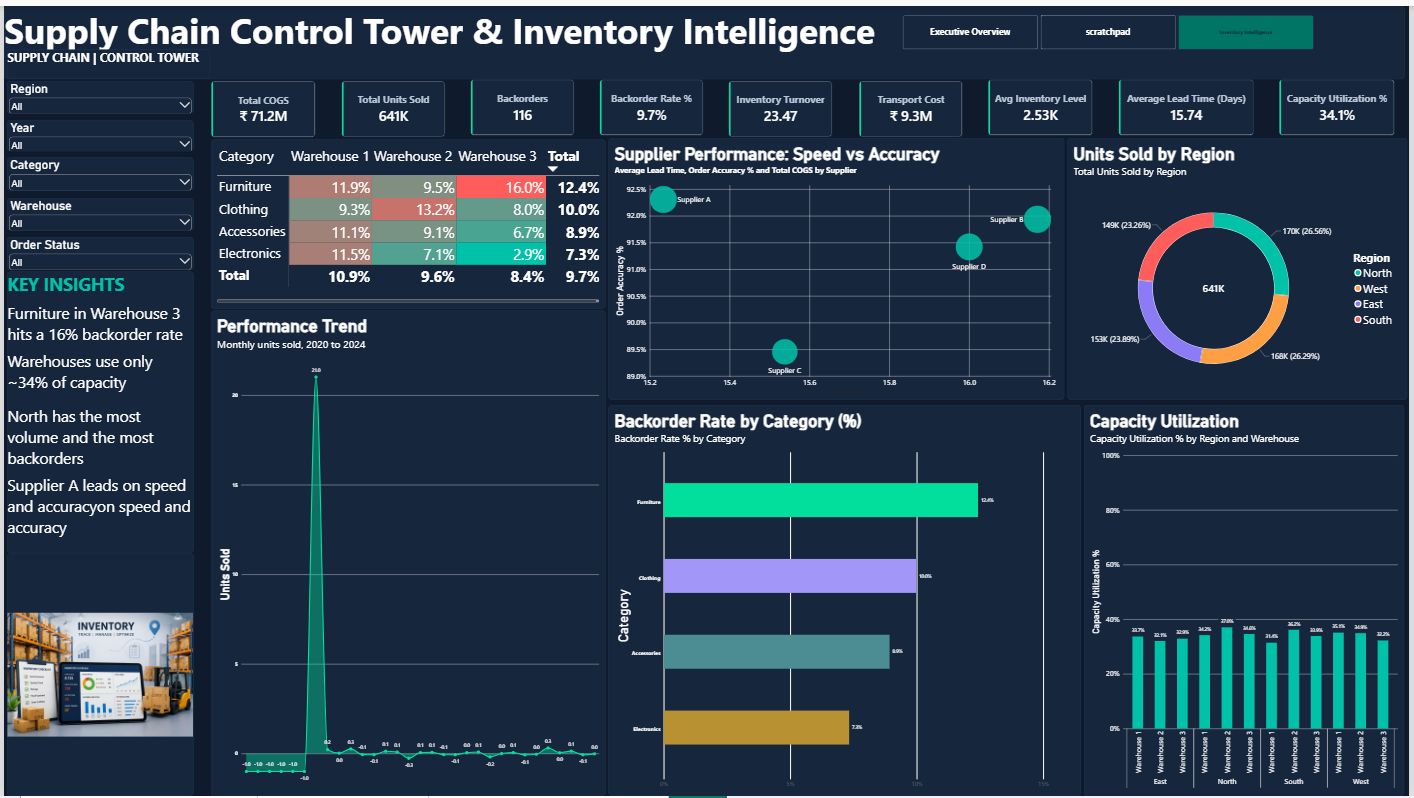

This screenshot's page, from the dashboard's own definition file:
{"tool":"powerbi","page":{"name":"Inventory Intelligence","canvas":[3840,2160],"ordinal":2},"visuals":[{"type":"textbox","box":[0,0,3830,200],"z":0},{"type":"slicer","fields":{"Values":["DateTable.Year"]},"box":[10,311.7,510,85],"z":1000},{"type":"slicer","fields":{"Values":["Inventory_SupplyChain_Dataset.Category"]},"box":[10,415,510,90],"z":2000},{"type":"slicer","fields":{"Values":["Inventory_SupplyChain_Dataset.Order Status"]},"box":[10,630,510,90],"z":3000},{"type":"cardVisual","fields":{"Data":["Inventory_SupplyChain_Dataset.Average Lead Time"]},"box":[3046.5,202.2,370,153.3],"z":4000},{"type":"cardVisual","fields":{"Data":["Inventory_SupplyChain_Dataset.Backordered Records"]},"box":[1275.5,202.5,283.3,153.3],"z":5000},{"type":"cardVisual","fields":{"Data":["Inventory_SupplyChain_Dataset.Total COGS"]},"box":[566.2,203.8,285.5,154.1],"z":6000},{"type":"cardVisual","fields":{"Data":["Inventory_SupplyChain_Dataset.Total Transportation Cost"]},"box":[2336.1,204.4,283.3,153.3],"z":7000},{"type":"cardVisual","fields":{"Data":["Inventory_SupplyChain_Dataset.Total Units Sold"]},"box":[921.9,203.8,283.3,153.3],"z":8000},{"type":"slicer","fields":{"Values":["Inventory_SupplyChain_Dataset.Region"]},"box":[10,205,510,88.3],"z":9000},{"type":"slicer","fields":{"Values":["Inventory_SupplyChain_Dataset.Warehouse"]},"box":[10,523.3,510,88.3],"z":10000},{"type":"cardVisual","fields":{"Data":["Inventory_SupplyChain_Dataset.Warehouse Capacity Utilization %"]},"box":[3486.7,202.2,316.7,153.3],"z":11000},{"type":"cardVisual","fields":{"Data":["Inventory_SupplyChain_Dataset.Avg Inventory Level"]},"box":[2689.6,202.2,286.7,153.3],"z":12000},{"type":"cardVisual","fields":{"Data":["Inventory_SupplyChain_Dataset.Inventory Turnover"]},"box":[1982.5,203.3,283.3,153.3],"z":13000},{"type":"cardVisual","fields":{"Data":["Inventory_SupplyChain_Dataset.Backorder Rate %"]},"box":[1629,202,283.3,153.3],"z":14000},{"type":"clusteredBarChart","title":"Backorder Rate by Category (%)","fields":{"Category":["Inventory_SupplyChain_Dataset.Category"],"Y":["Inventory_SupplyChain_Dataset.Backorder Rate %"]},"box":[1654,1092.1,1291.5,1069.4],"z":15000},{"type":"pivotTable","fields":{"Columns":["Inventory_SupplyChain_Dataset.Warehouse"],"Rows":["Inventory_SupplyChain_Dataset.Category"],"Values":["Inventory_SupplyChain_Dataset.Backorder Rate %"]},"box":[566.7,363.3,1078.3,463.3],"z":16000},{"type":"lineChart","title":"Performance Trend","fields":{"Category":["DateTable.Year-Month"],"Y":["Inventory_SupplyChain_Dataset.Units Sold YoY %"]},"box":[566.4,833.8,1078.5,1327.7],"z":17000},{"type":"textbox","box":[10,120,555,80],"z":18000},{"type":"pageNavigator","box":[2455,25,1125,95],"z":19000},{"type":"donutChart","title":"Units Sold by Region","fields":{"Category":["Inventory_SupplyChain_Dataset.Region"],"Y":["Inventory_SupplyChain_Dataset.Total Units Sold"]},"box":[2909.3,362.5,929,716],"z":20000},{"type":"scatterChart","title":"Supplier Performance: Speed vs Accuracy","fields":{"Category":["Inventory_SupplyChain_Dataset.Supplier"],"Size":["Inventory_SupplyChain_Dataset.Total COGS"],"X":["Inventory_SupplyChain_Dataset.Average Lead Time"],"Y":["Inventory_SupplyChain_Dataset.Order Accuracy %"]},"box":[1654,362.5,1246.2,716],"z":21000},{"type":"lineClusteredColumnComboChart","title":"Capacity Utilization","fields":{"Category":["Inventory_SupplyChain_Dataset.Region","Inventory_SupplyChain_Dataset.Warehouse"],"Y":["Inventory_SupplyChain_Dataset.Capacity Utilization %"]},"box":[2955,1090,875,1070],"z":22000},{"type":"textbox","box":[10,726.7,510,770],"z":23000},{"type":"image","box":[10,1497,510,663],"z":23001}]}

Visuals, with their boxes in screenshot pixels (x1, y1, x2, y2), scaled from the page's 3840x2160 canvas onto the 1414x798 screenshot:
textbox: select_region(0, 0, 1410, 74)
slicer - DateTable.Year: select_region(4, 115, 191, 147)
slicer - Inventory_SupplyChain_Dataset.Category: select_region(4, 153, 191, 187)
slicer - Inventory_SupplyChain_Dataset.Order Status: select_region(4, 233, 191, 266)
cardVisual - Inventory_SupplyChain_Dataset.Average Lead Time: select_region(1122, 75, 1258, 131)
cardVisual - Inventory_SupplyChain_Dataset.Backordered Records: select_region(470, 75, 574, 131)
cardVisual - Inventory_SupplyChain_Dataset.Total COGS: select_region(208, 75, 314, 132)
cardVisual - Inventory_SupplyChain_Dataset.Total Transportation Cost: select_region(860, 76, 965, 132)
cardVisual - Inventory_SupplyChain_Dataset.Total Units Sold: select_region(339, 75, 444, 132)
slicer - Inventory_SupplyChain_Dataset.Region: select_region(4, 76, 191, 108)
slicer - Inventory_SupplyChain_Dataset.Warehouse: select_region(4, 193, 191, 226)
cardVisual - Inventory_SupplyChain_Dataset.Warehouse Capacity Utilization %: select_region(1284, 75, 1401, 131)
cardVisual - Inventory_SupplyChain_Dataset.Avg Inventory Level: select_region(990, 75, 1096, 131)
cardVisual - Inventory_SupplyChain_Dataset.Inventory Turnover: select_region(730, 75, 834, 132)
cardVisual - Inventory_SupplyChain_Dataset.Backorder Rate %: select_region(600, 75, 704, 131)
"Backorder Rate by Category (%)" clusteredBarChart: select_region(609, 403, 1085, 797)
pivotTable - Inventory_SupplyChain_Dataset.Warehouse x Inventory_SupplyChain_Dataset.Category: select_region(209, 134, 606, 305)
"Performance Trend" lineChart: select_region(209, 308, 606, 797)
textbox: select_region(4, 44, 208, 74)
pageNavigator: select_region(904, 9, 1318, 44)
"Units Sold by Region" donutChart: select_region(1071, 134, 1413, 398)
"Supplier Performance: Speed vs Accuracy" scatterChart: select_region(609, 134, 1068, 398)
"Capacity Utilization" lineClusteredColumnComboChart: select_region(1088, 403, 1410, 797)
textbox: select_region(4, 268, 191, 553)
image: select_region(4, 553, 191, 797)
